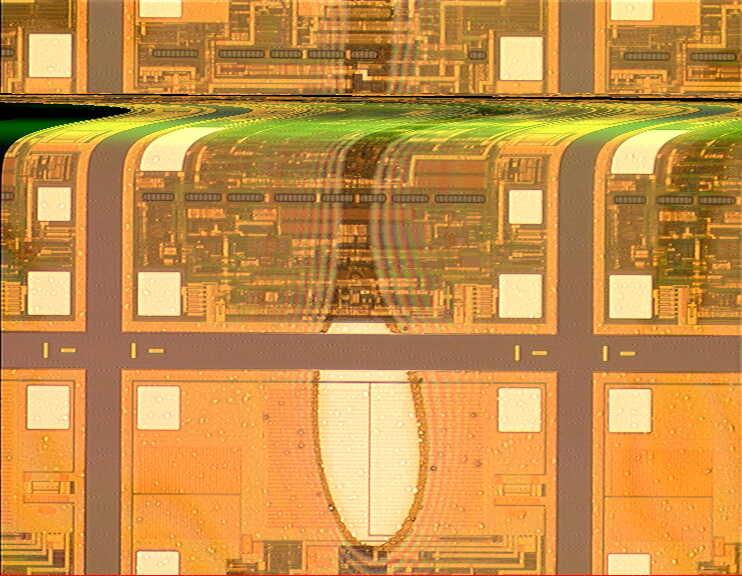COATING BAD: (305, 1, 442, 572)
